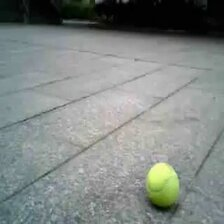tennis: (145, 164, 177, 205)
